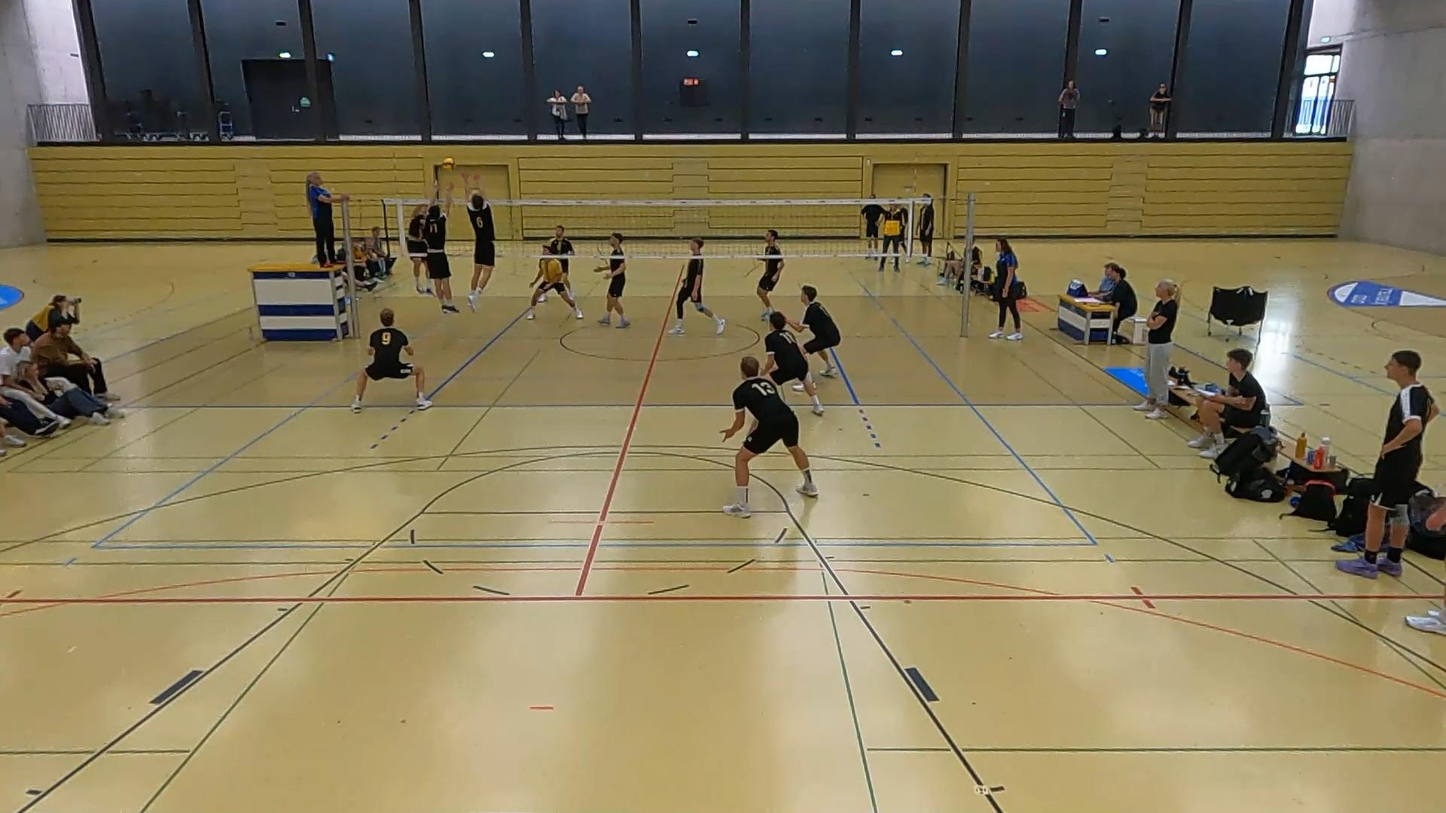attacco: (400, 196, 436, 301)
muro: (415, 174, 463, 317), (456, 174, 505, 314)
